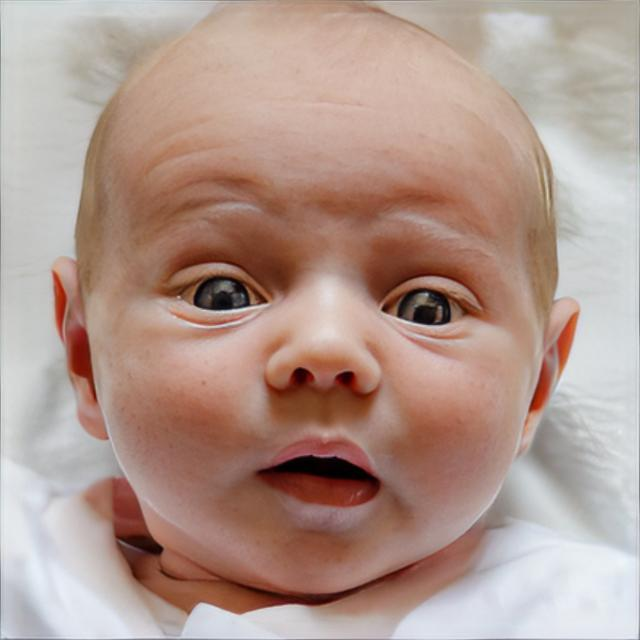surprise: (88, 23, 546, 594)
